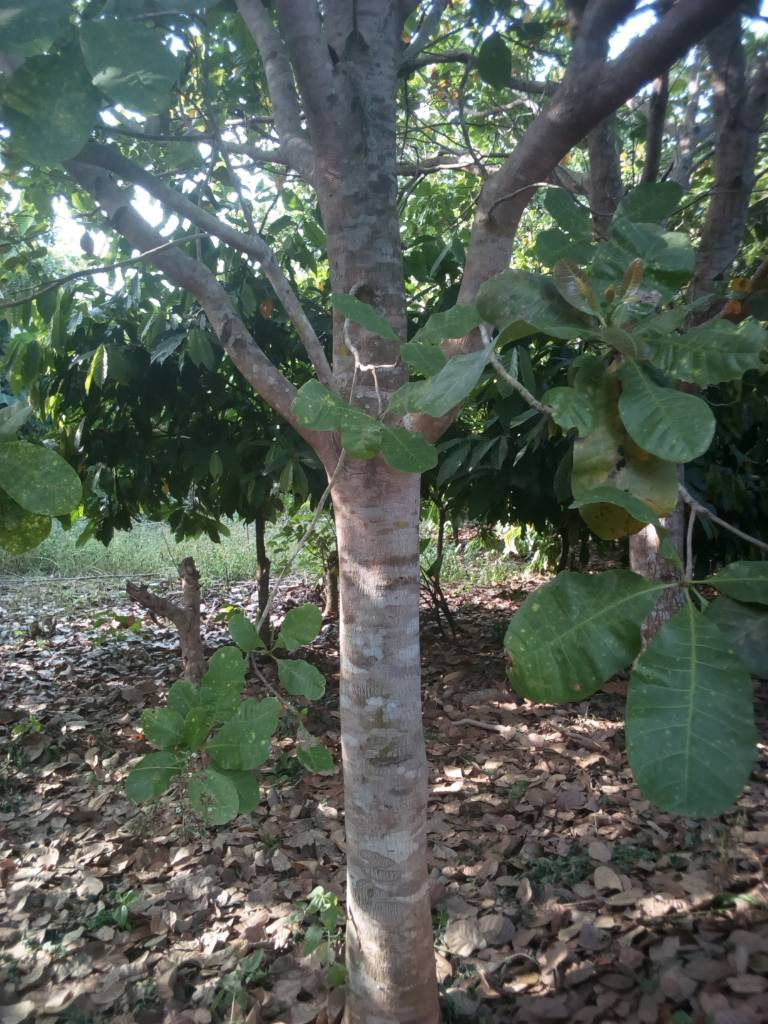Alternariose: (625, 607, 752, 817), (507, 572, 665, 705)
